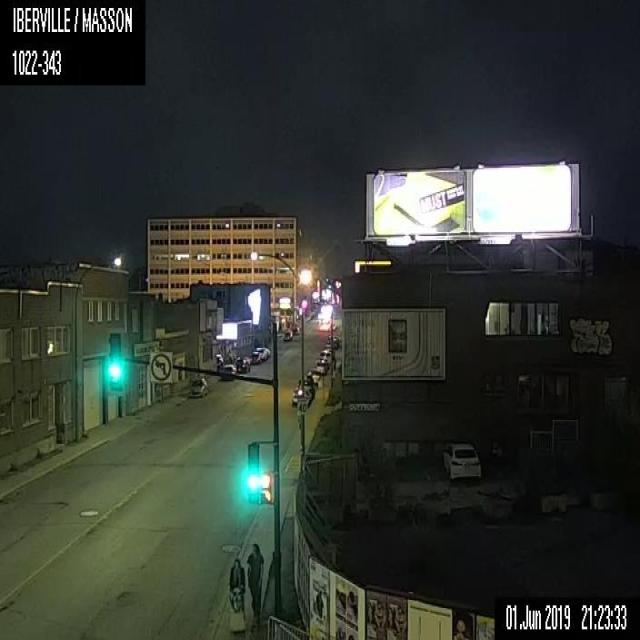pedestrian: (245, 542, 263, 630), (227, 554, 246, 634)
vehicle: (442, 442, 482, 482), (186, 375, 209, 398), (290, 386, 310, 406), (297, 378, 314, 399), (217, 362, 235, 381), (234, 355, 250, 373), (319, 348, 332, 367), (313, 359, 328, 374), (307, 367, 321, 382), (282, 328, 294, 342), (327, 335, 339, 349), (256, 346, 266, 360), (250, 350, 260, 363)
